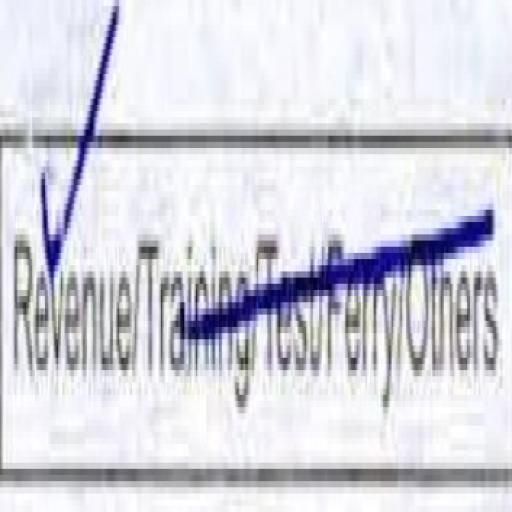check: (0, 0, 137, 511)
